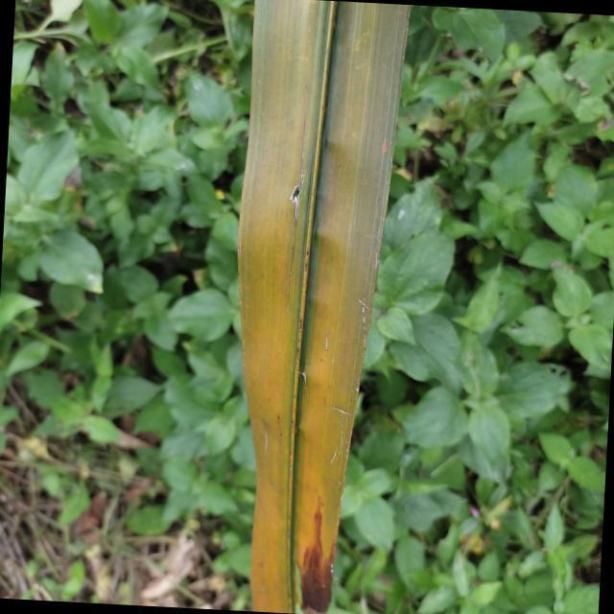Megnesium: (242, 0, 412, 614)
